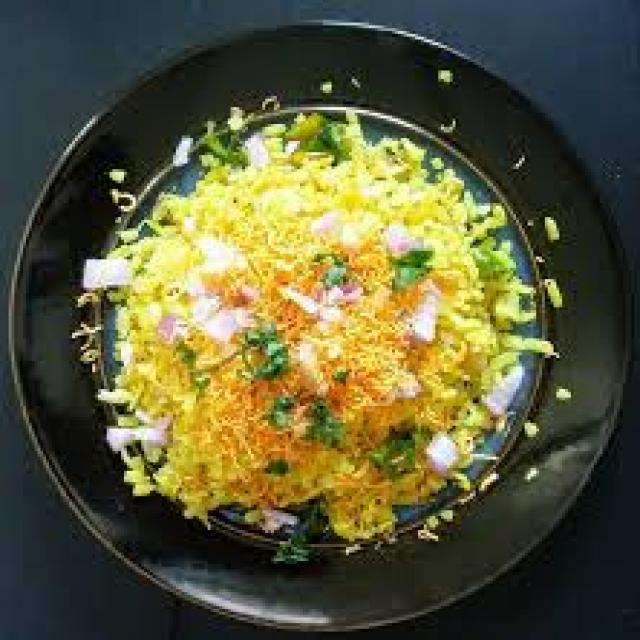POHA: (104, 135, 536, 526)
